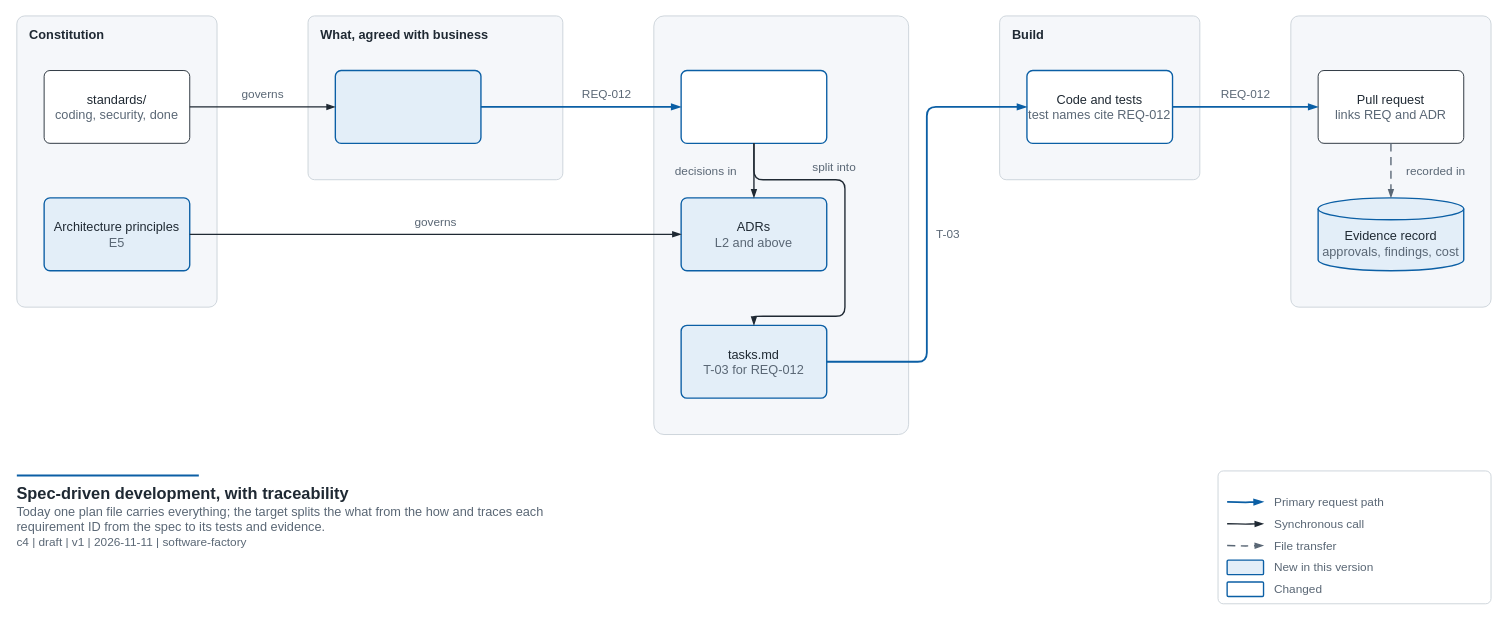
Some shapes in this 1507 by 620 pixel diagram are drawn without their labels. The shapes that lost their labels are listed below. From the top down, each one's box as (x1, y1, x2, y2) in pixels, then its label:
(334, 69, 481, 144): spec.md EARS, REQ-012
(680, 69, 827, 144): plan.md design, file list
(1290, 15, 1491, 307): Prove
(653, 15, 909, 435): How, owned by engineering
(1217, 470, 1491, 604): Legend
